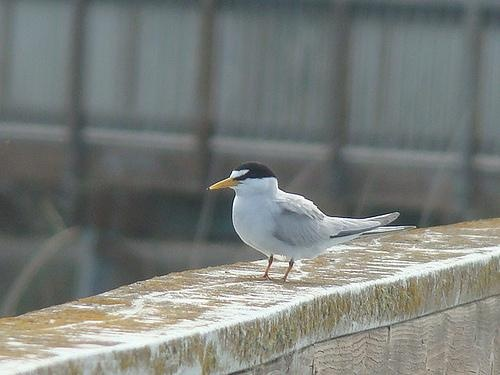bird: (208, 159, 410, 283)
